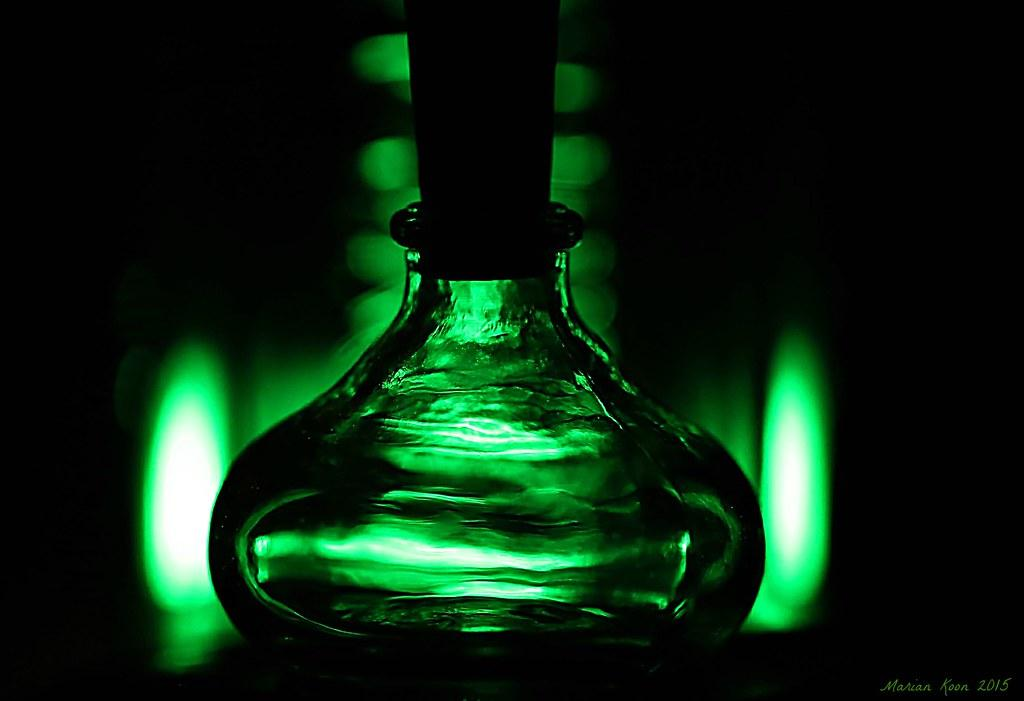bottle: (206, 1, 767, 673)
